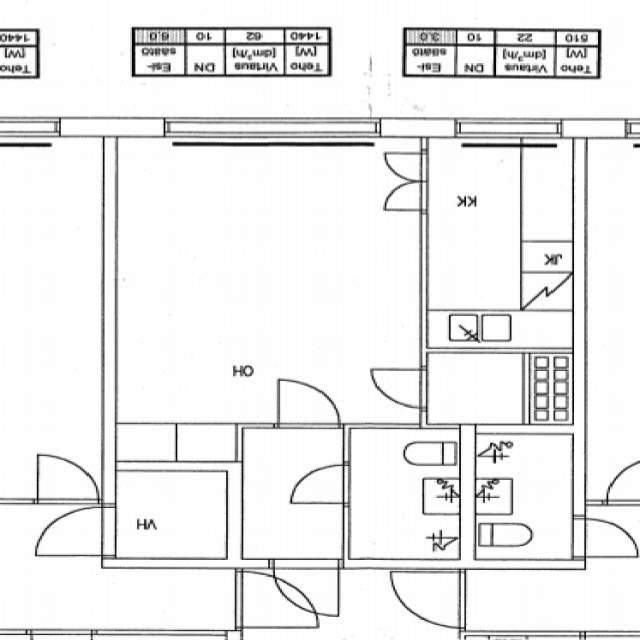door: (273, 558, 338, 616), (278, 382, 338, 428), (290, 464, 350, 503), (369, 368, 428, 406), (383, 181, 427, 209), (383, 152, 427, 180)
